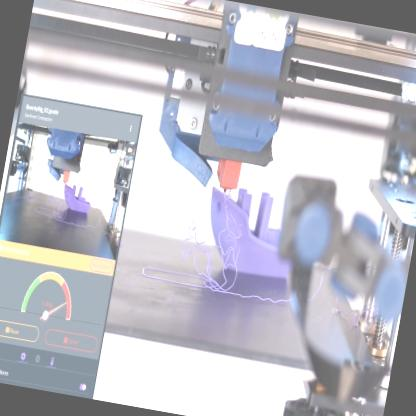fail: (169, 208, 252, 302)
